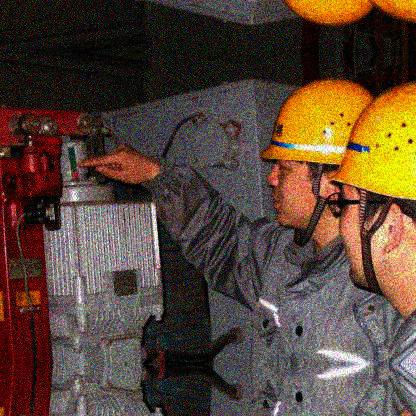helmet: (327, 82, 416, 323), (257, 75, 376, 228)
